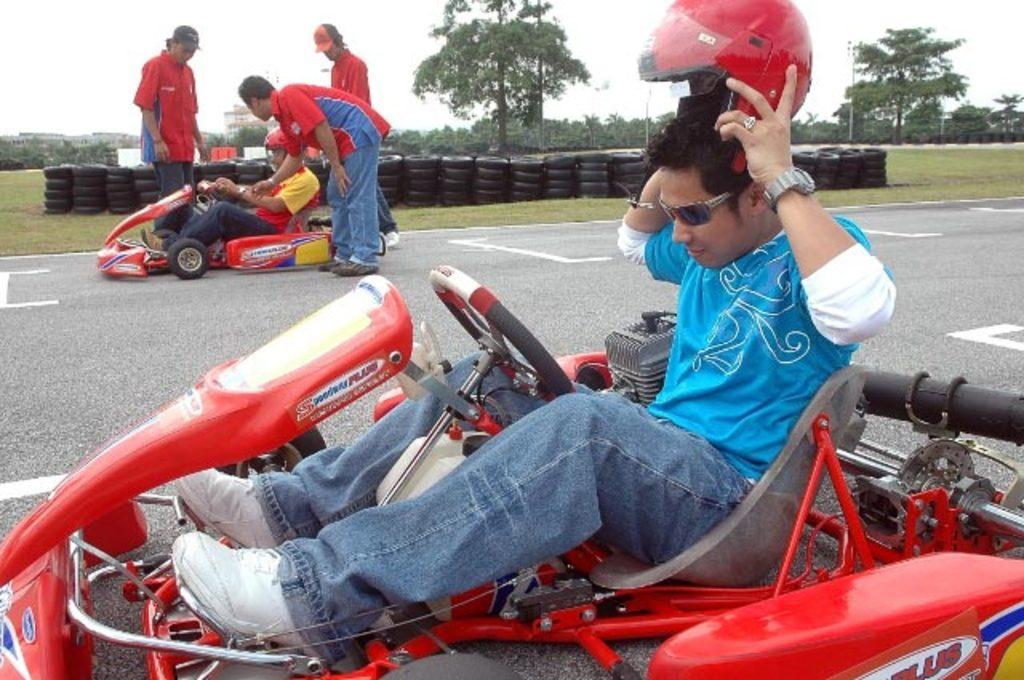helmet: (636, 0, 814, 152), (264, 126, 308, 173)
nohelmet: (237, 74, 278, 123), (169, 24, 204, 67), (312, 22, 347, 63)
